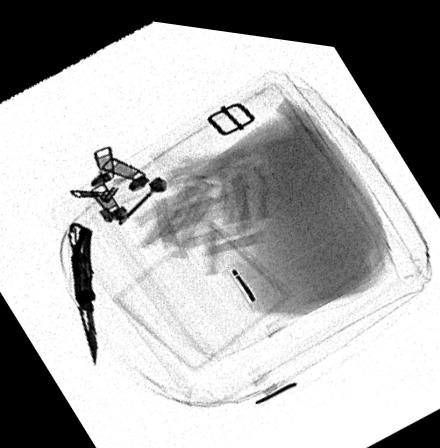Knife: (65, 219, 99, 364)
